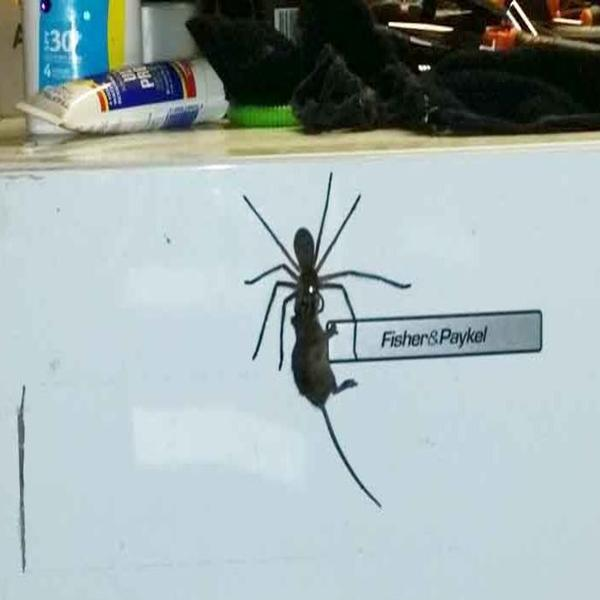Huntsman Spider: (242, 167, 391, 361)
